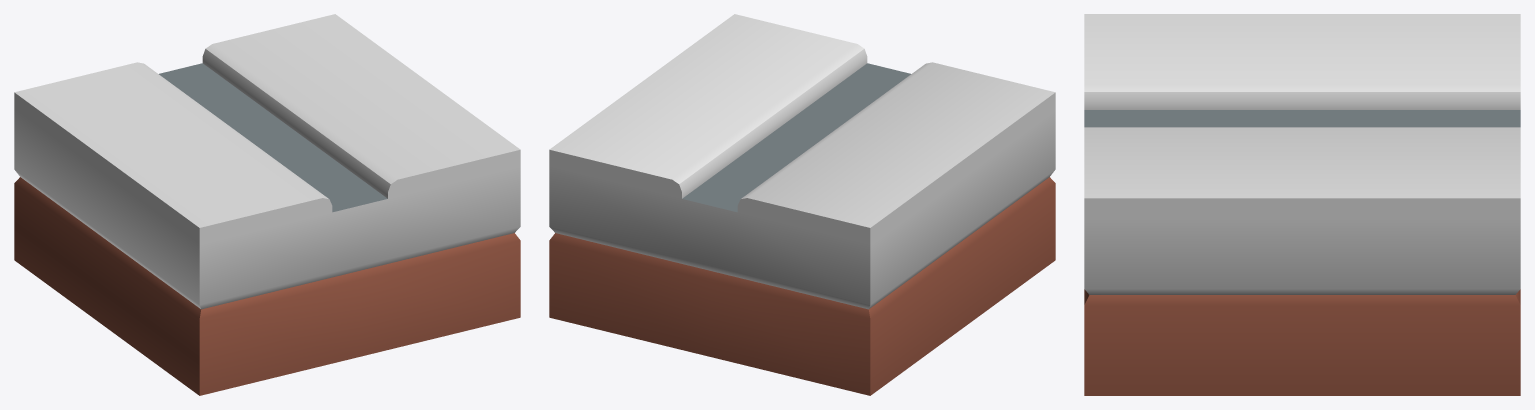
Rendered from square_snow_roadB_detail.fbx.
3 renders of one model, left to right at view 1: azimuth 30°, elevation 25°; view 2: azimuth 150°, elevation 25°; view 3: azimuth 270°, elevation 25°, orthographic. The views are drawn at different scales.
Visible parts, largest first — view 1: square_snow_roadB_detail; view 2: square_snow_roadB_detail; view 3: square_snow_roadB_detail.
Part boxes in pixels (x1,y1,x2,y2): square_snow_roadB_detail: [14, 14, 520, 395]; square_snow_roadB_detail: [549, 14, 1055, 395]; square_snow_roadB_detail: [1084, 14, 1520, 395].
Size of the model in its own units: 2 by 1 by 2.
